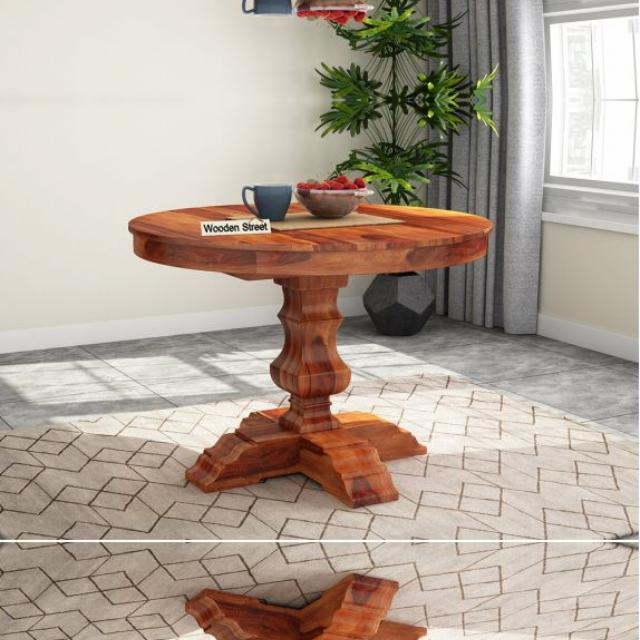obstacle: (84, 124, 568, 538), (84, 542, 568, 640), (84, 0, 568, 74)
